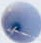Balloon: (1, 2, 41, 43)
